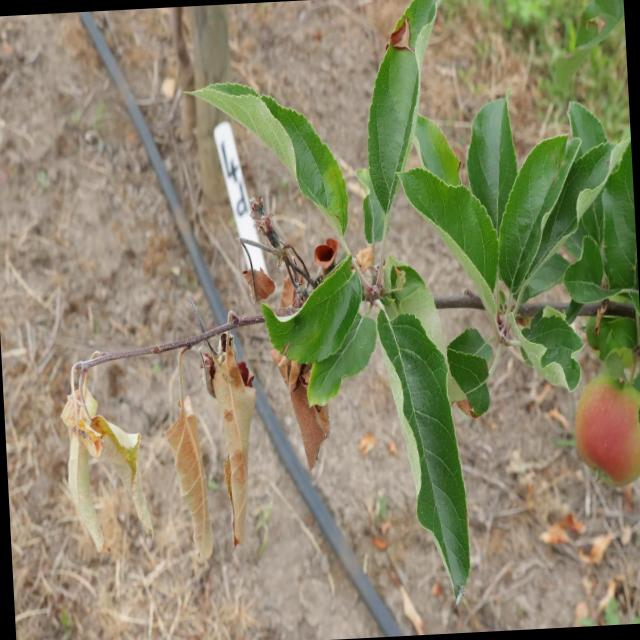-FireBlight-: (61, 344, 262, 559), (236, 236, 327, 464)
